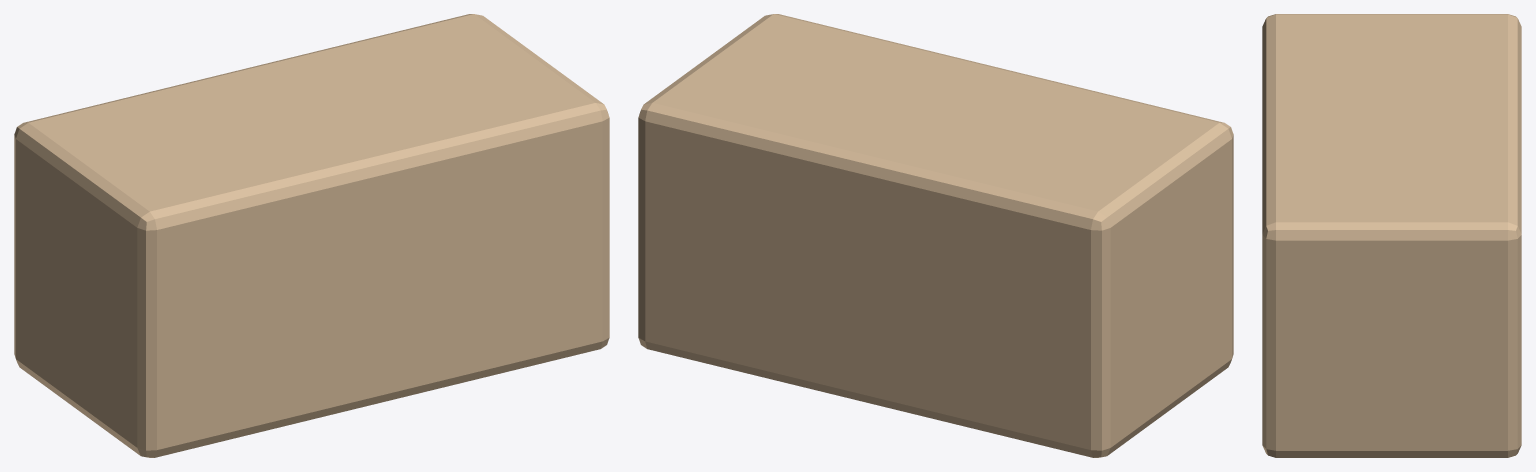
The model's file is toy_brick.glb.
3 renders of one model, left to right at view 1: azimuth 30°, elevation 25°; view 2: azimuth 150°, elevation 25°; view 3: azimuth 270°, elevation 25°, orthographic. The views are drawn at different scales.
Parts seen in each view (by area): view 1: toy_brick; view 2: toy_brick; view 3: toy_brick.
Boxes of the visible parts, x1=… form: toy_brick: x1=14, y1=14, x2=609, y2=457; toy_brick: x1=638, y1=14, x2=1233, y2=457; toy_brick: x1=1262, y1=14, x2=1521, y2=457.
Bounding box in the file's own units: 0.06 × 0.03 × 0.03.
